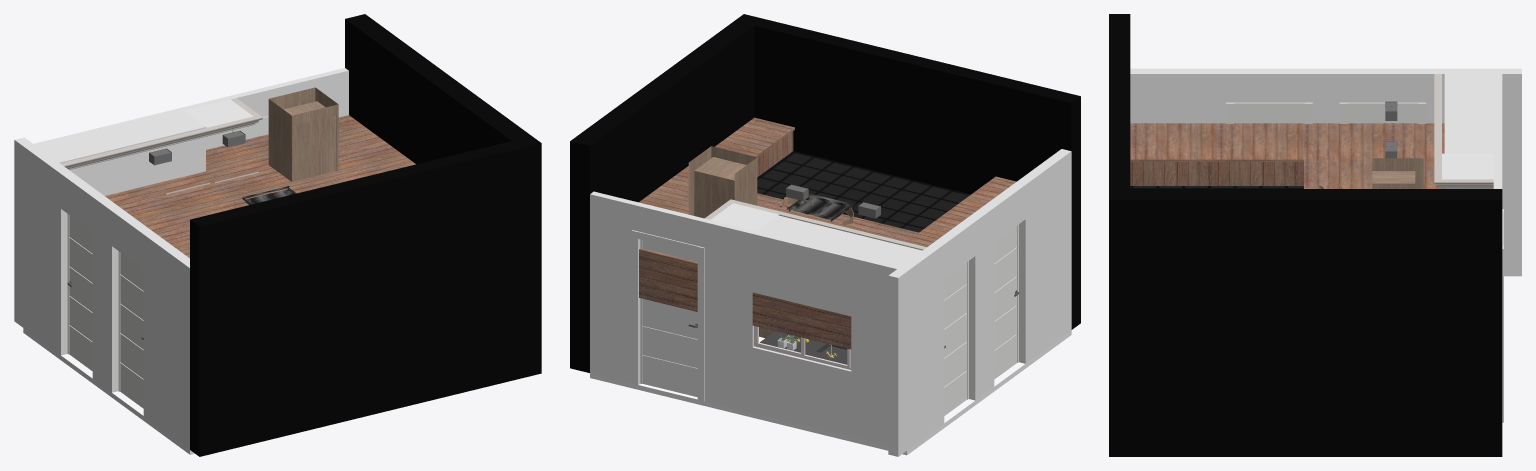
Rendered from kitchen-draco.glb.
3 renders of one model, left to right at view 1: azimuth 30°, elevation 25°; view 2: azimuth 150°, elevation 25°; view 3: azimuth 270°, elevation 25°, orthographic. The views are drawn at different scales.
Visible parts, largest first — view 1: Material2 (×3); view 2: Material2 (×5); view 3: Material2 (×4).
Boxes of the visible parts, x1,y1,x2,y2 form: Material2 (×3): (14, 14, 541, 456); Material2 (×5): (570, 14, 1080, 456); Material2 (×4): (1109, 14, 1521, 456).
Bounding box in the file's own units: 6608432 × 4347807 × 6200233.
Materials: 30 (30 with a texture image).
